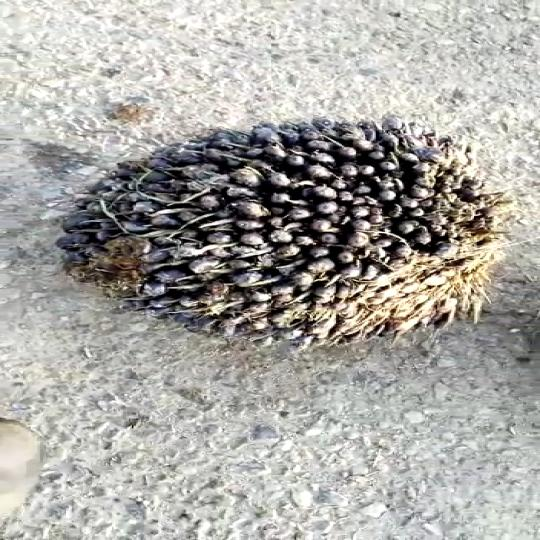mentah: (55, 129, 540, 344)
